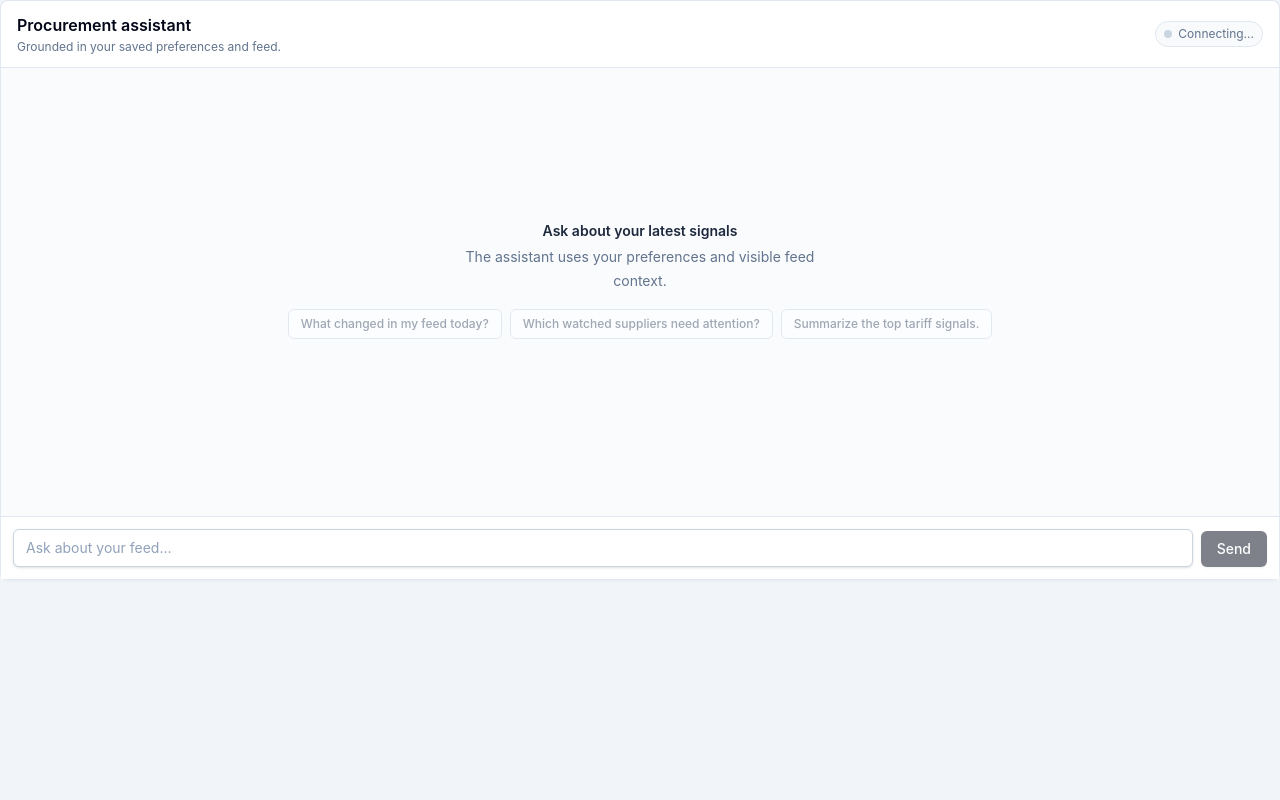
ChatWindow › sends a message and renders streamed reply
(page scrolled)
In the text box named "Message": (603, 548) [13,529,1193,567], type "What is the tariff?"
Then press Enter
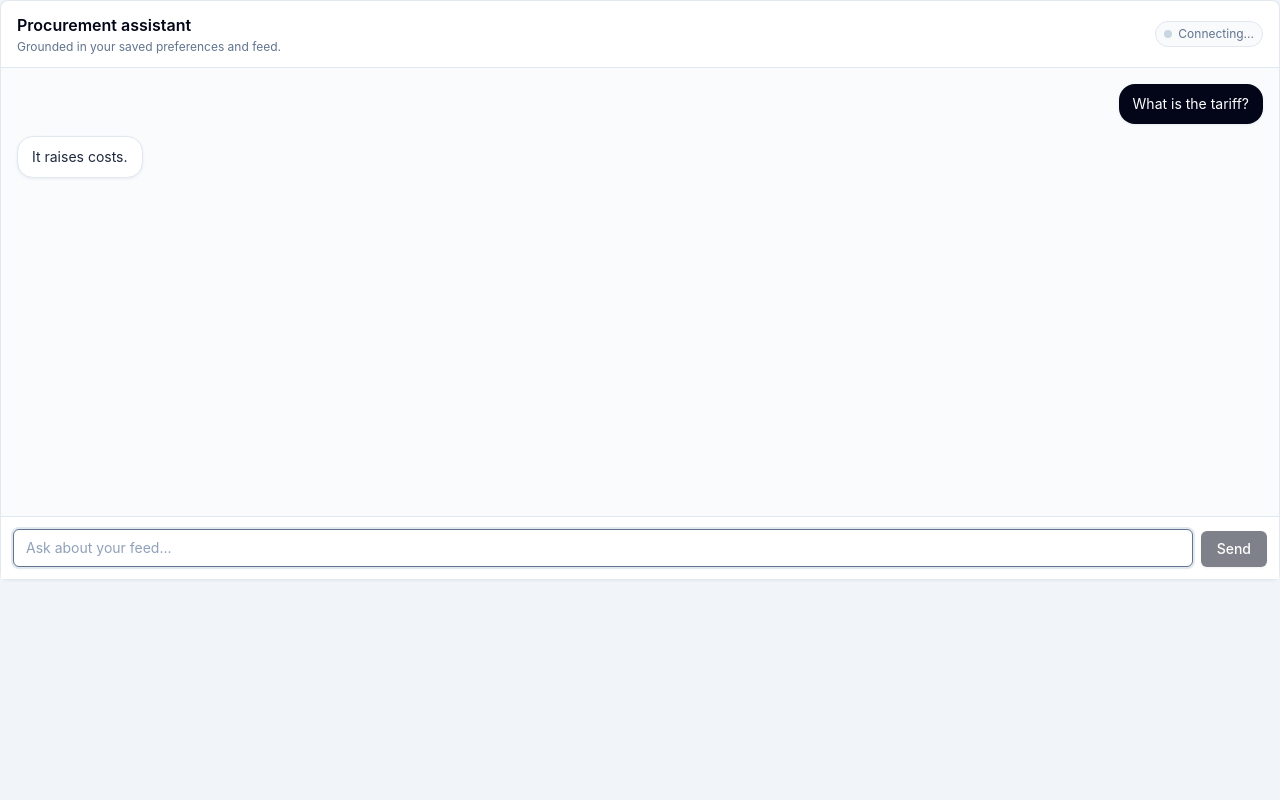
expect the text "What is the tariff?" is shown: met, box [1119,84,1263,124]
expect the text "It raises costs." is shown: met, box [17,136,142,178]
